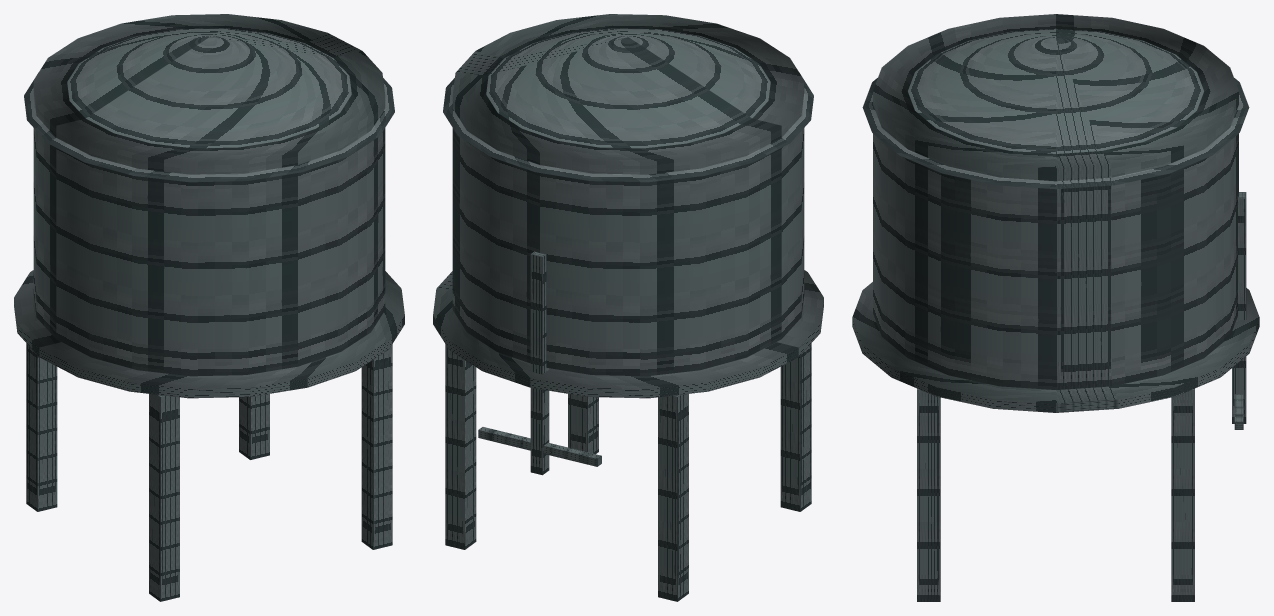
Rendered from water-tower-meshy-v1.glb.
3 views of the same model, side by side, from view 1: azimuth 30°, elevation 25°; view 2: azimuth 150°, elevation 25°; view 3: azimuth 270°, elevation 25° (orthographic). The views are drawn at different scales.
Visible parts, largest first — view 1: water-tower-mesh; view 2: water-tower-mesh; view 3: water-tower-mesh.
Part boxes in pixels (<box>): water-tower-mesh: <box>14,14,404,601</box>; water-tower-mesh: <box>433,14,823,601</box>; water-tower-mesh: <box>852,14,1259,601</box>.
Bounding box in the file's own units: 8 × 10.95 × 8.
Materials: 1 (1 with a texture image).
